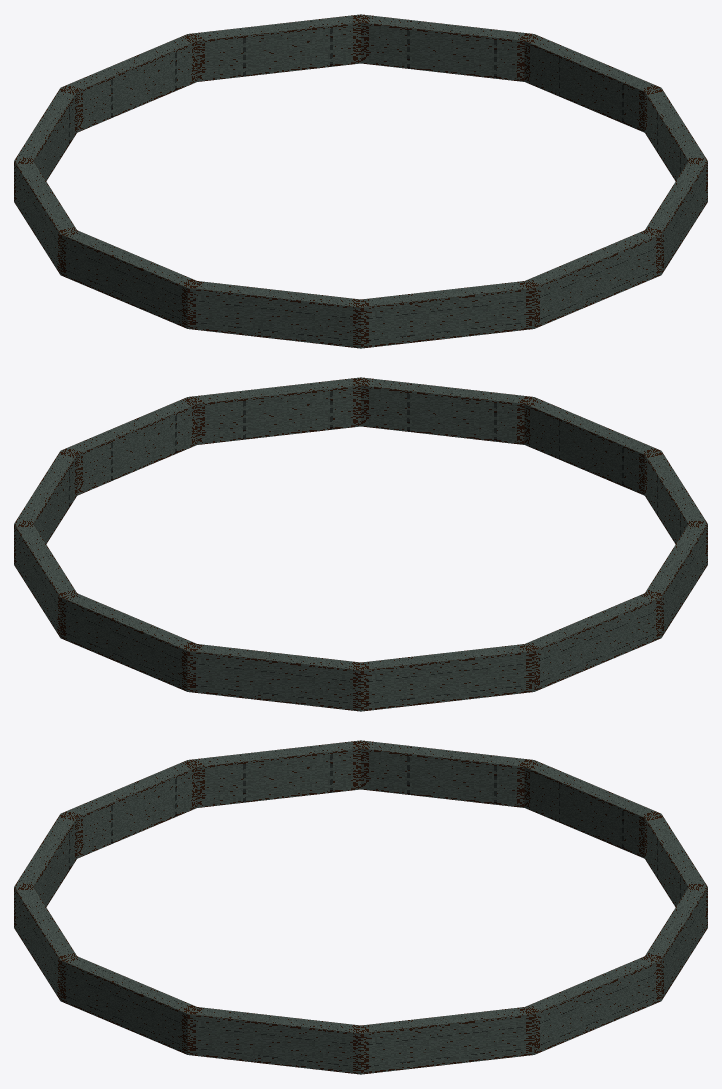
File: capsula_travas.obj
3 views of the same model, one above another, from view 1: azimuth 30°, elevation 25°; view 2: azimuth 150°, elevation 25°; view 3: azimuth 270°, elevation 25° (orthographic).
Size of the model in its own units: 2.15 by 0.14 by 2.15.
Materials: 1 (1 with a texture image).
